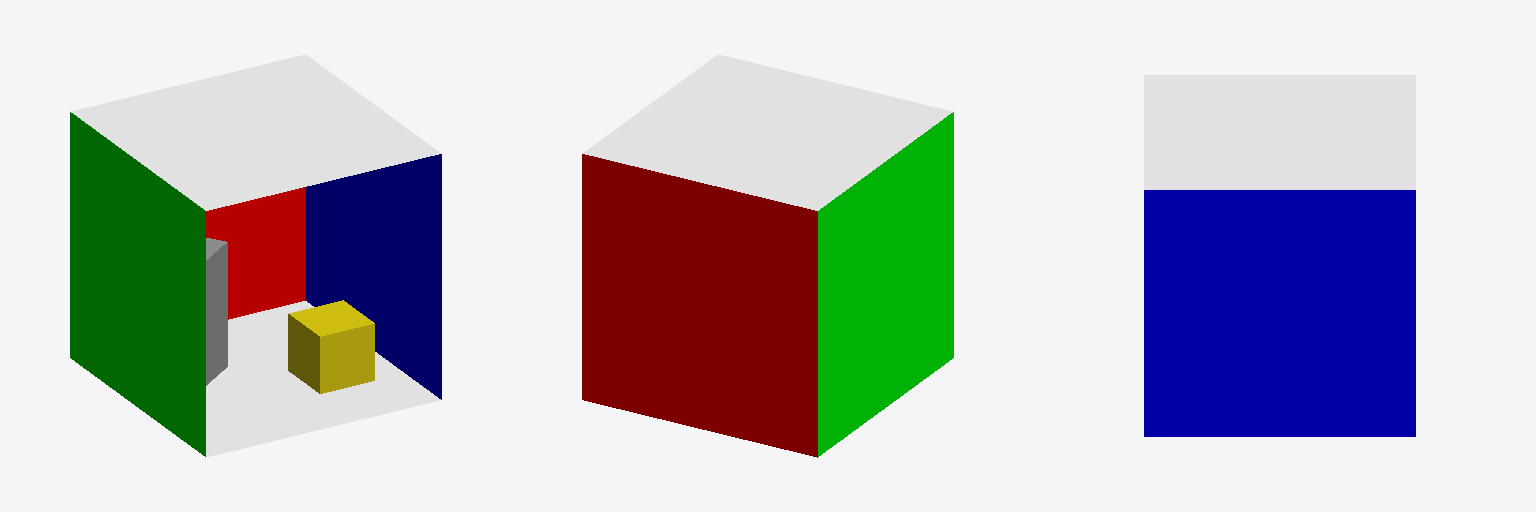
Rendered from cornell.obj.
3 renders of one model, left to right at view 1: azimuth 30°, elevation 25°; view 2: azimuth 150°, elevation 25°; view 3: azimuth 270°, elevation 25°, orthographic.
Visible parts, largest first — view 1: Box001, Box003, Box004, Box002, Box005, Box007, Box006; view 2: Box005, Box001, Box003; view 3: Box004, Box003.
Boxes of the visible parts, box(x1,y1,x2,y2) form: Box001: box(70, 112, 205, 456); Box003: box(71, 54, 440, 210); Box004: box(306, 154, 441, 399); Box002: box(206, 301, 440, 457); Box005: box(206, 187, 305, 319); Box007: box(288, 300, 374, 393); Box006: box(206, 238, 227, 385); Box005: box(582, 154, 817, 457); Box001: box(818, 112, 953, 456); Box003: box(583, 54, 952, 210); Box004: box(1144, 190, 1415, 436); Box003: box(1144, 75, 1415, 189).
Size of the model in its own units: 2 by 2 by 2.